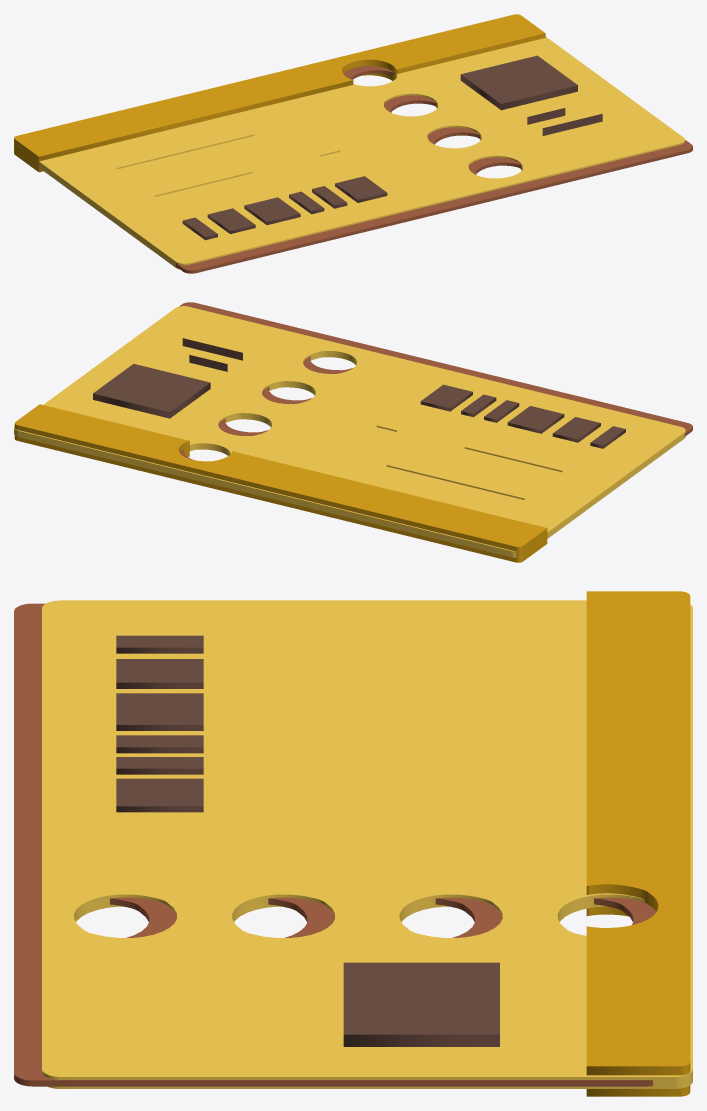
File: emoji_u1f3ab.glb
The picture shows the model from 3 angles, top to bottom: view 1: azimuth 30°, elevation 25°; view 2: azimuth 150°, elevation 25°; view 3: azimuth 270°, elevation 25°; orthographic projection. The views are drawn at different scales.
Parts seen in each view (by area): view 1: emoji_u1f3ab; view 2: emoji_u1f3ab; view 3: emoji_u1f3ab.
Part boxes in pixels (x1=…): emoji_u1f3ab: x1=14, y1=14, x2=692, y2=273; emoji_u1f3ab: x1=14, y1=302, x2=692, y2=562; emoji_u1f3ab: x1=14, y1=591, x2=692, y2=1096.
Bounding box in the file's own units: 0.0339 × 0.0014 × 0.0204.
